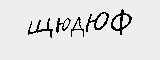Д: (70, 17, 86, 39)
Ф: (110, 8, 133, 37)
Щ: (26, 17, 54, 39)
Ю: (83, 9, 110, 34), (54, 16, 71, 36)
